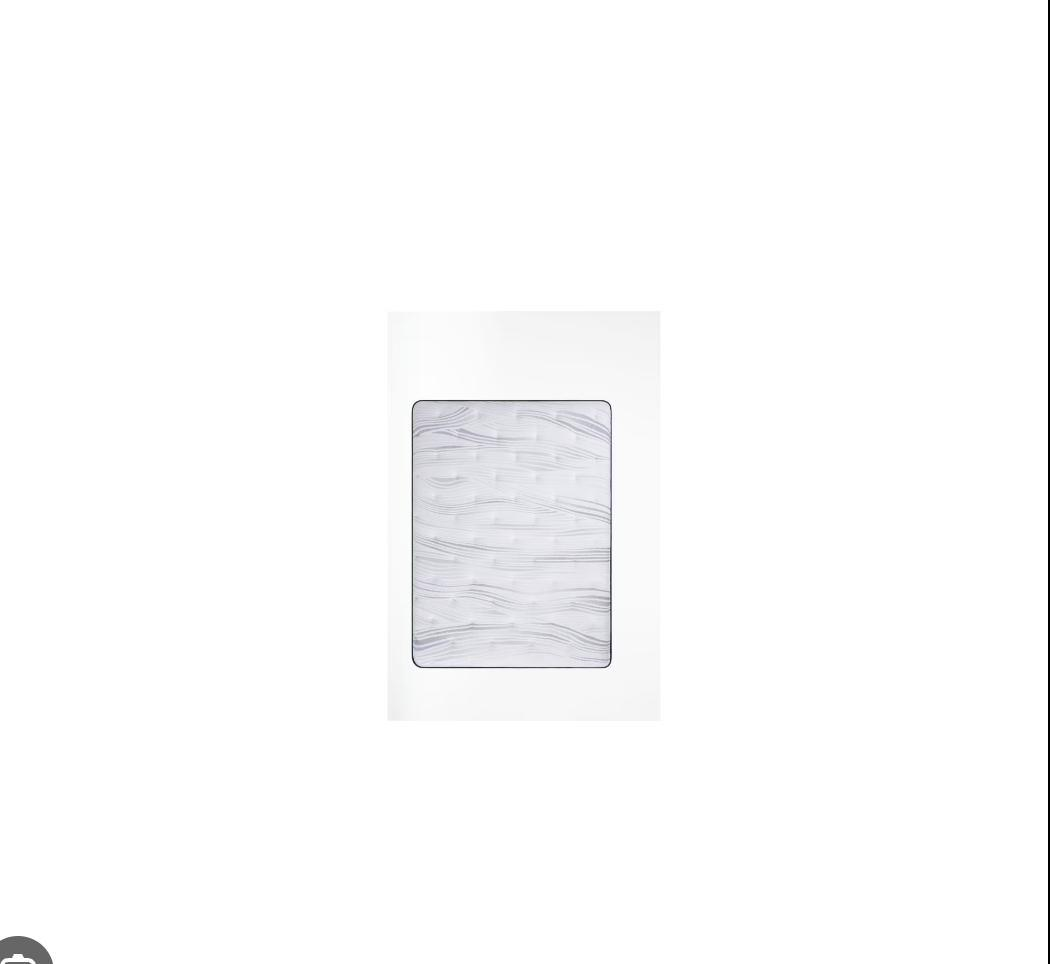Bed-Mattress: (407, 392, 619, 675)
